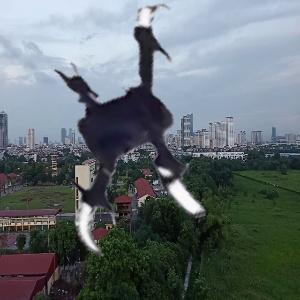drone: (14, 8, 277, 271)
